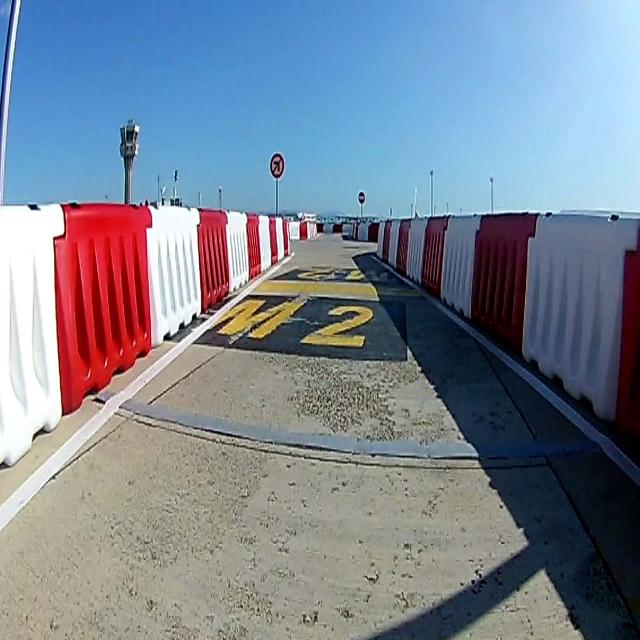soladonulmez: (270, 154, 284, 178)
